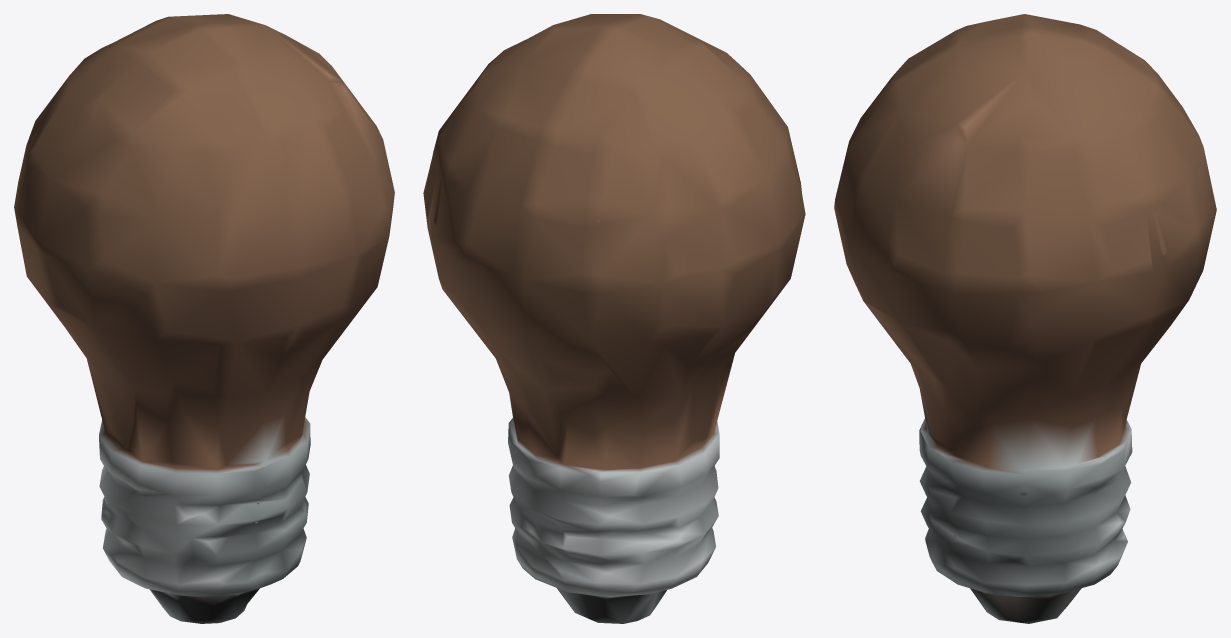
The model's file is gen3d-glowing-light-bulb-lod1.glb.
3 renders of one model, left to right at view 1: azimuth 30°, elevation 25°; view 2: azimuth 150°, elevation 25°; view 3: azimuth 270°, elevation 25°, orthographic.
Parts seen in each view (by area): view 1: part_0; view 2: part_0; view 3: part_0.
Boxes of the visible parts, <box> form: part_0: <box>14,14,394,623</box>; part_0: <box>423,14,805,623</box>; part_0: <box>834,14,1216,623</box>.
Size of the model in its own units: 0.5946 by 0.9955 by 0.5972.
